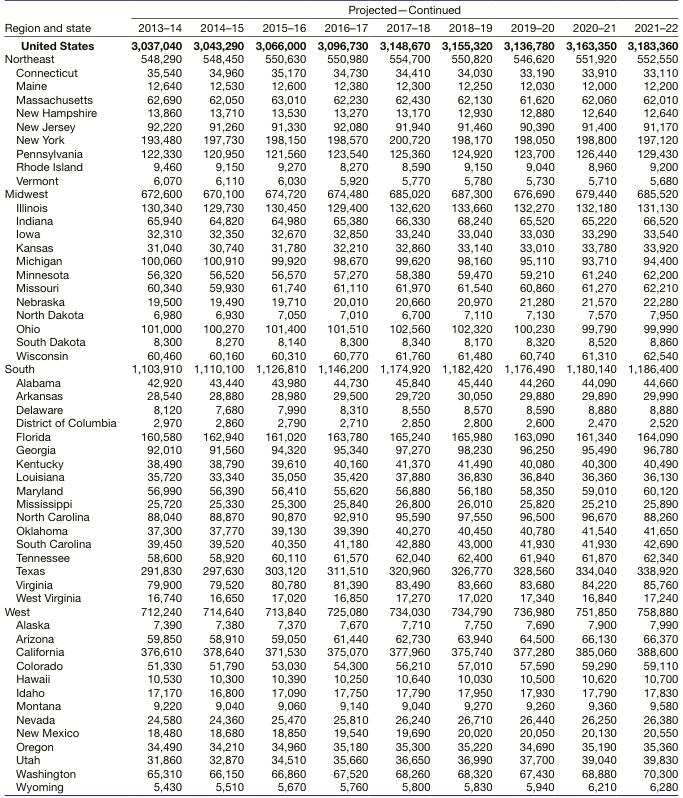table: (3, 3, 677, 792)
table column: (3, 3, 123, 792), (123, 3, 186, 792), (186, 3, 249, 792), (249, 3, 311, 792), (311, 3, 373, 792), (373, 3, 435, 792), (435, 3, 497, 792), (497, 3, 559, 792), (559, 3, 621, 792), (621, 3, 677, 792)
table column header: (3, 3, 677, 36)
table row: (3, 18, 677, 36), (3, 36, 677, 52), (3, 3, 677, 18), (3, 65, 677, 79), (3, 92, 677, 106), (3, 119, 677, 133), (3, 159, 677, 173), (3, 186, 677, 200), (3, 213, 677, 227), (3, 240, 677, 254), (3, 267, 677, 281), (3, 294, 677, 308), (3, 321, 677, 335), (3, 348, 677, 362), (3, 375, 677, 389), (3, 402, 677, 416), (3, 429, 677, 443), (3, 469, 677, 483), (3, 496, 677, 510), (3, 523, 677, 537), (3, 550, 677, 564), (3, 577, 677, 591), (3, 604, 677, 618), (3, 631, 677, 645), (3, 658, 677, 672), (3, 685, 677, 699), (3, 712, 677, 726), (3, 752, 677, 766), (3, 52, 677, 65), (3, 79, 677, 92), (3, 106, 677, 119), (3, 133, 677, 146), (3, 146, 677, 159), (3, 173, 677, 186), (3, 200, 677, 213), (3, 227, 677, 240), (3, 254, 677, 267), (3, 281, 677, 294), (3, 308, 677, 321), (3, 335, 677, 348), (3, 362, 677, 375), (3, 389, 677, 402), (3, 416, 677, 429), (3, 443, 677, 456), (3, 456, 677, 469), (3, 483, 677, 496), (3, 510, 677, 523), (3, 537, 677, 550), (3, 564, 677, 577), (3, 591, 677, 604), (3, 618, 677, 631), (3, 645, 677, 658), (3, 672, 677, 685), (3, 699, 677, 712), (3, 726, 677, 739), (3, 739, 677, 752), (3, 766, 677, 779), (3, 779, 677, 792)
table spanning cell: (123, 3, 621, 18), (3, 3, 123, 36), (621, 3, 677, 36)
